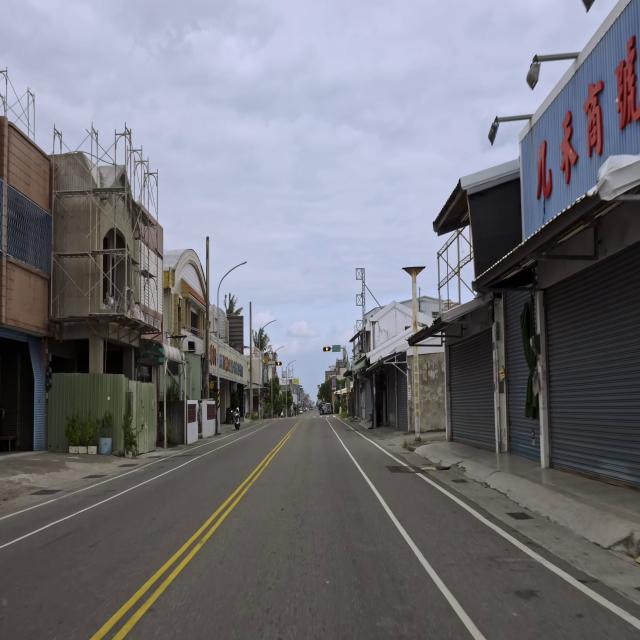yellow light: (322, 347, 330, 351), (276, 362, 282, 366)
